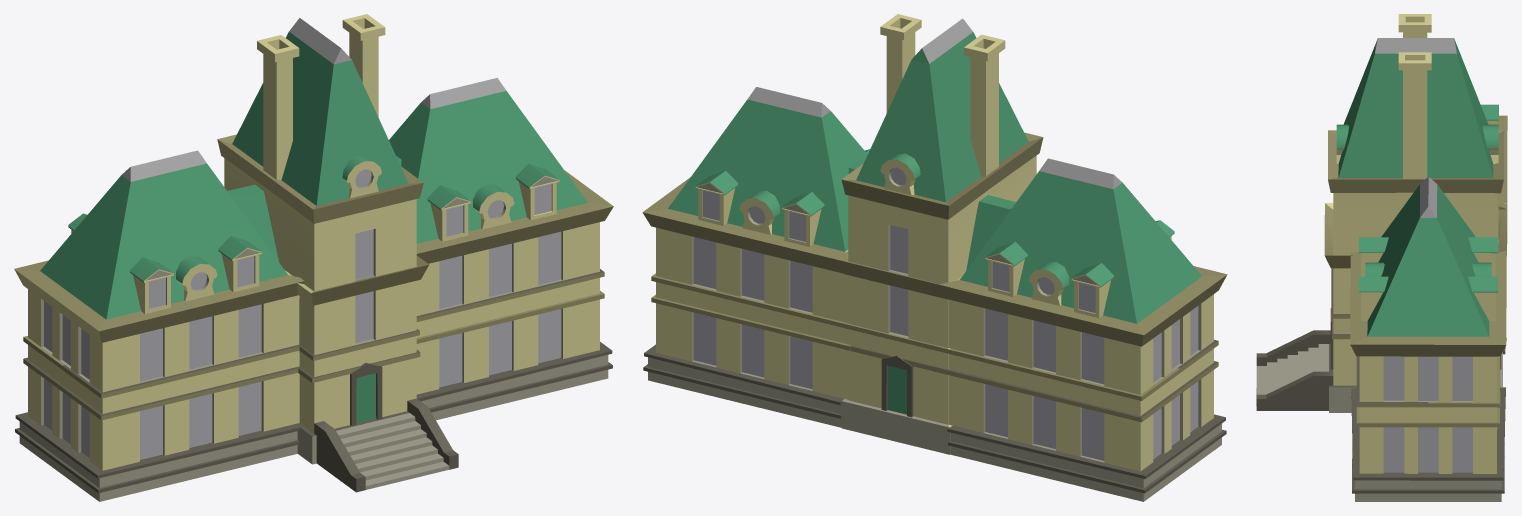
The model's file is hauntedhouse.glb.
3 views of the same model, side by side, from view 1: azimuth 30°, elevation 25°; view 2: azimuth 150°, elevation 25°; view 3: azimuth 270°, elevation 25° (orthographic). The views are drawn at different scales.
Visible parts, largest first — view 1: buffer-0-mesh-0_1, buffer-0-mesh-0_0, buffer-0-mesh-0_4, buffer-0-mesh-0_6, buffer-0-mesh-0_3, buffer-0-mesh-0_2, buffer-0-mesh-0_5; view 2: buffer-0-mesh-0_1, buffer-0-mesh-0_0, buffer-0-mesh-0_4, buffer-0-mesh-0_6, buffer-0-mesh-0_3, buffer-0-mesh-0_2, buffer-0-mesh-0_5; view 3: buffer-0-mesh-0_0, buffer-0-mesh-0_1, buffer-0-mesh-0_4, buffer-0-mesh-0_2, buffer-0-mesh-0_6, buffer-0-mesh-0_3, buffer-0-mesh-0_5.
Part boxes in pixels (x1,y1,x2,y2): buffer-0-mesh-0_1: (28, 14, 599, 470); buffer-0-mesh-0_0: (40, 32, 587, 423); buffer-0-mesh-0_4: (14, 134, 613, 420); buffer-0-mesh-0_6: (44, 169, 561, 459); buffer-0-mesh-0_3: (19, 170, 608, 501); buffer-0-mesh-0_2: (15, 269, 612, 493); buffer-0-mesh-0_5: (122, 18, 506, 181); buffer-0-mesh-0_1: (656, 14, 1213, 471); buffer-0-mesh-0_0: (668, 32, 1201, 414); buffer-0-mesh-0_4: (642, 132, 1227, 422); buffer-0-mesh-0_6: (693, 167, 1198, 460); buffer-0-mesh-0_3: (648, 168, 1221, 501); buffer-0-mesh-0_2: (643, 339, 1226, 493); buffer-0-mesh-0_5: (747, 18, 1122, 189); buffer-0-mesh-0_0: (1336, 39, 1498, 336); buffer-0-mesh-0_1: (1256, 14, 1506, 473); buffer-0-mesh-0_4: (1324, 115, 1507, 427); buffer-0-mesh-0_2: (1256, 268, 1506, 493); buffer-0-mesh-0_6: (1383, 356, 1472, 472); buffer-0-mesh-0_3: (1256, 344, 1502, 501); buffer-0-mesh-0_5: (1375, 38, 1456, 217).
Size of the model in its own units: 105 by 74.65 by 48.47.
